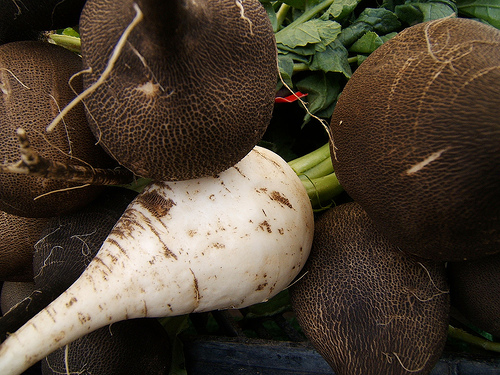turnip: (3, 145, 314, 374)
